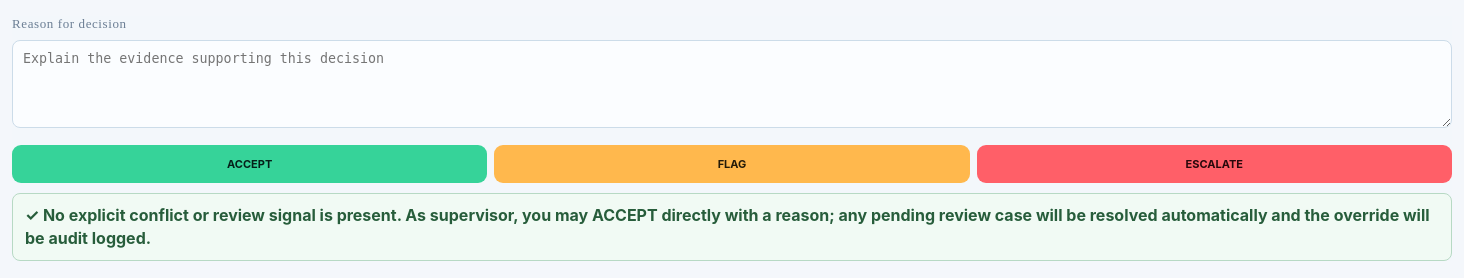
Test case: supervisor can directly accept a non-critical evidence-gap review without claiming it first
Type "Original evidence checked and acceptable." into the text box labelled "Reason for decision".
click(732, 84); type("Original evidence checked and acceptable.")  # box x1=12 y1=40 x2=1452 y2=128
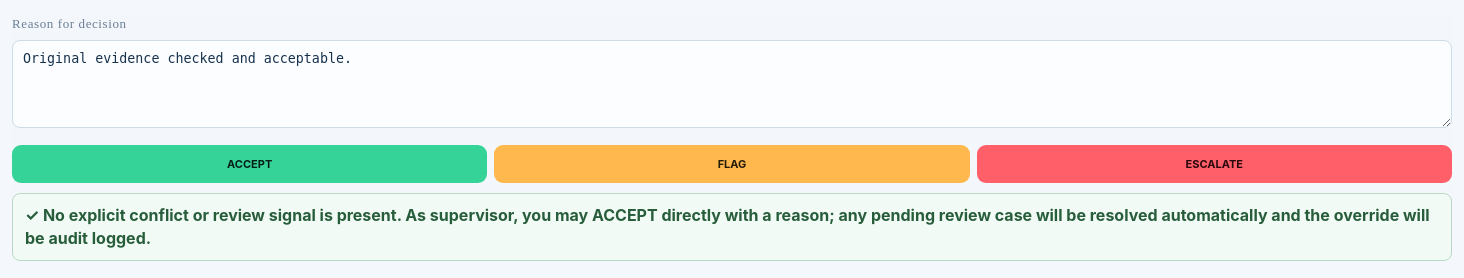
Click the button "ACCEPT".
click(250, 164)  # box x1=12 y1=145 x2=487 y2=183
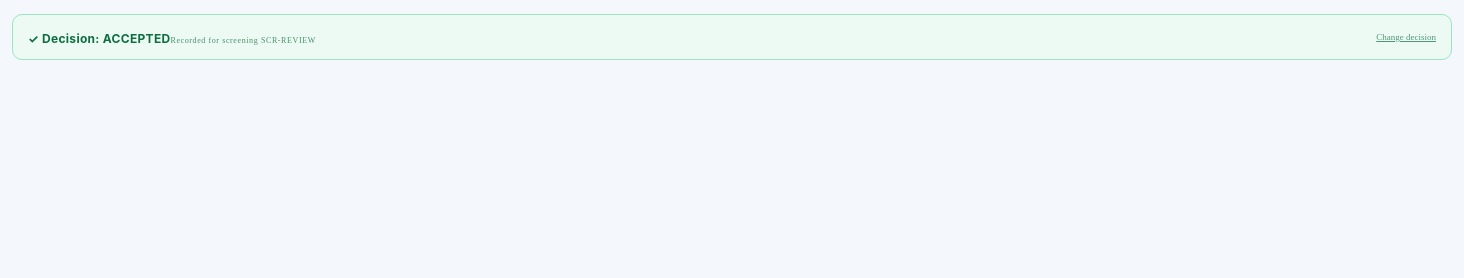
expect the text "✓ Decision: ACCEPTED" is shown: met, box x1=28 y1=31 x2=170 y2=46
